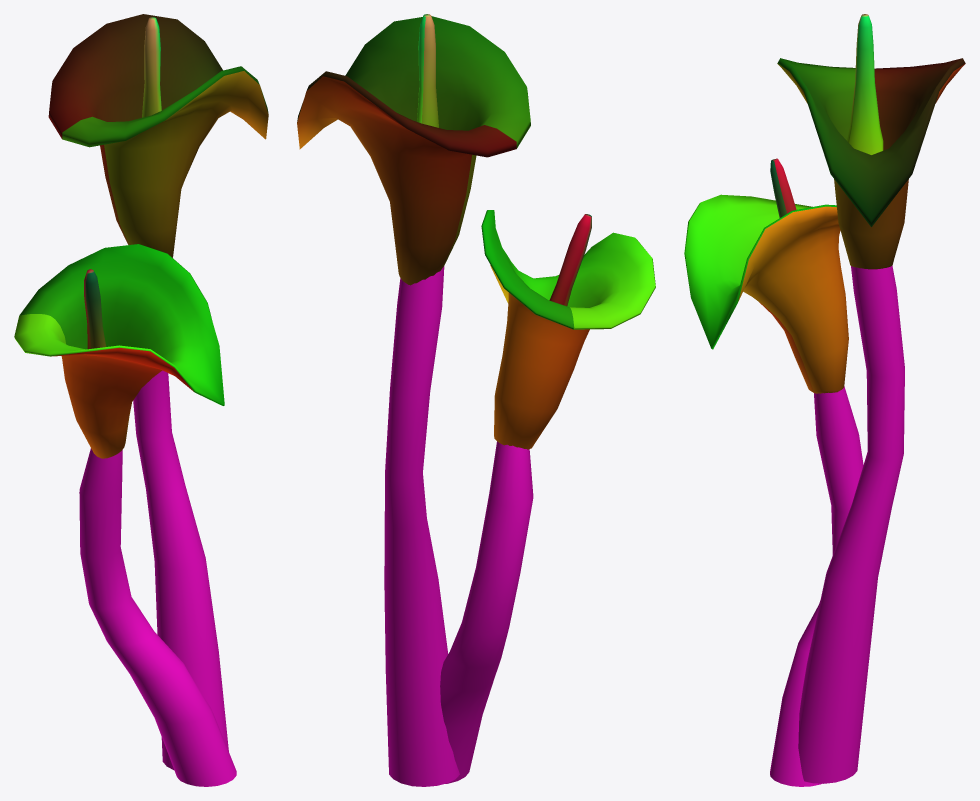
3 renders of one model, left to right at view 1: azimuth 30°, elevation 25°; view 2: azimuth 150°, elevation 25°; view 3: azimuth 270°, elevation 25°, orthographic. The views are drawn at different scales.
Visible parts, largest first — view 1: F01_001_Petal, F01_001_Branch, F01_001_Bulb; view 2: F01_001_Petal, F01_001_Branch, F01_001_Bulb; view 3: F01_001_Petal, F01_001_Branch, F01_001_Bulb.
Boxes of the visible parts, x1=… form: F01_001_Petal: x1=14, y1=14, x2=268, y2=458; F01_001_Branch: x1=79, y1=370, x2=236, y2=786; F01_001_Bulb: x1=84, y1=17, x2=161, y2=349; F01_001_Petal: x1=297, y1=16, x2=655, y2=449; F01_001_Branch: x1=384, y1=266, x2=533, y2=786; F01_001_Bulb: x1=417, y1=14, x2=591, y2=306; F01_001_Petal: x1=684, y1=58, x2=965, y2=393; F01_001_Branch: x1=770, y1=265, x2=904, y2=786; F01_001_Bulb: x1=770, y1=14, x2=883, y2=217.
Bounding box in the file's own units: 51.6 × 130 × 44.1.
